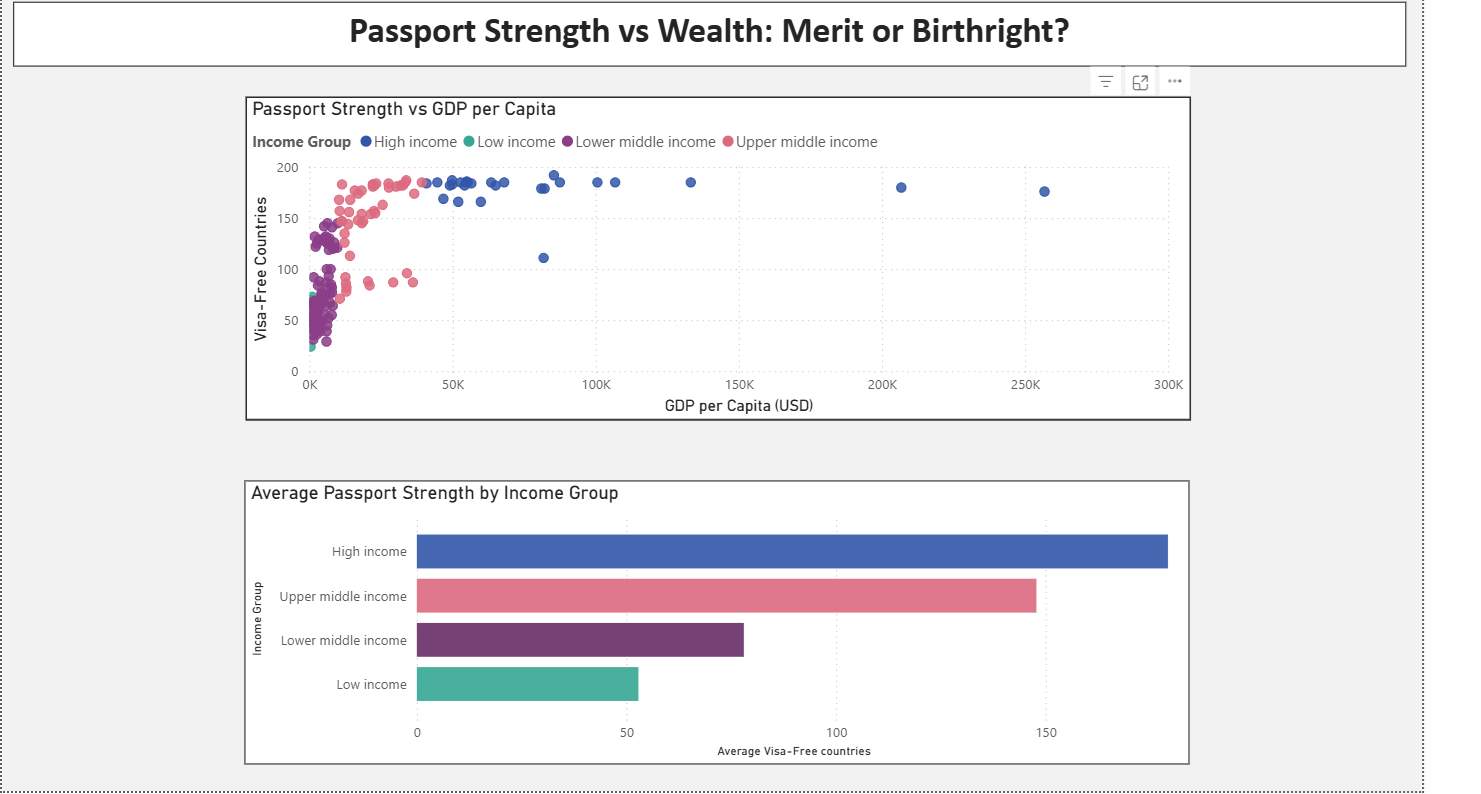

What the dashboard file says about the page in this screenshot:
{"tool":"powerbi","page":{"name":"Passport vs Wealth","canvas":[1280,720],"ordinal":3},"visuals":[{"type":"textbox","box":[10.5,8.1,1255.8,58.1],"z":0},{"type":"scatterChart","title":"Passport Strength vs GDP per Capita","fields":{"X":["Sum(public dim_economy.gdp_per_capita_usd)"],"Y":["public dim_passport.visa_free_count"],"Category":["public dim_passport.country_name"],"Series":["public dim_economy.income_group"]},"box":[220.2,93.3,852.1,292.3],"z":1000},{"type":"clusteredBarChart","title":"Average Passport Strength by Income Group","fields":{"Category":["public dim_economy.income_group"],"Y":["Avg(public dim_passport.visa_free_count)"]},"box":[218.9,439.1,852.1,256.3],"z":2000}]}

Visuals, with their boxes on the page's 1280x720 design canvas (x1, y1, x2, y2). These are canvas units, not pixel positions in the 1481x794 screenshot, which may show the page scaled, cropped or inside an application window:
textbox: {"x1": 10, "y1": 8, "x2": 1266, "y2": 66}
"Passport Strength vs GDP per Capita" scatterChart: {"x1": 220, "y1": 93, "x2": 1072, "y2": 386}
"Average Passport Strength by Income Group" clusteredBarChart: {"x1": 219, "y1": 439, "x2": 1071, "y2": 695}
